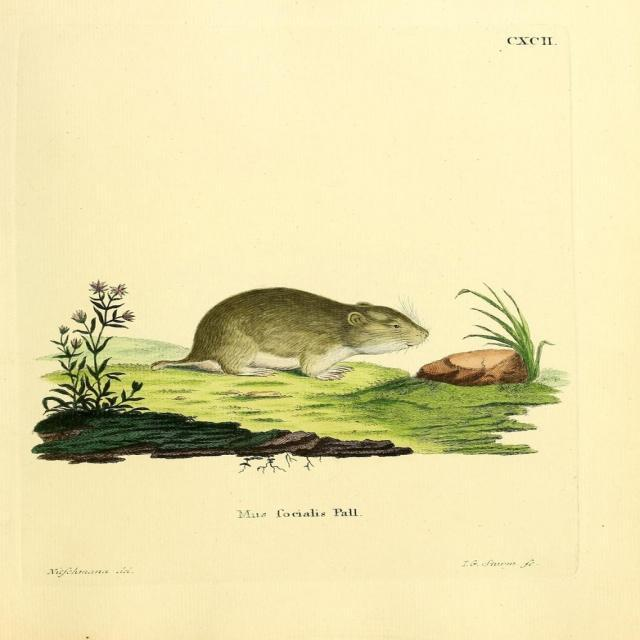rat: (150, 283, 432, 381)
